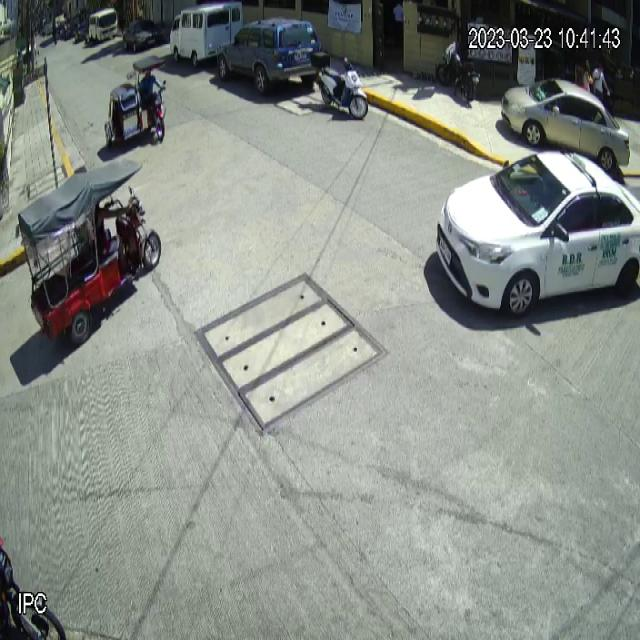Car: (433, 145, 640, 319), (501, 79, 631, 172), (216, 15, 322, 97)
Motorcycle: (312, 51, 368, 120)
Tricycle: (104, 52, 168, 147)
Van: (169, 0, 243, 67)
